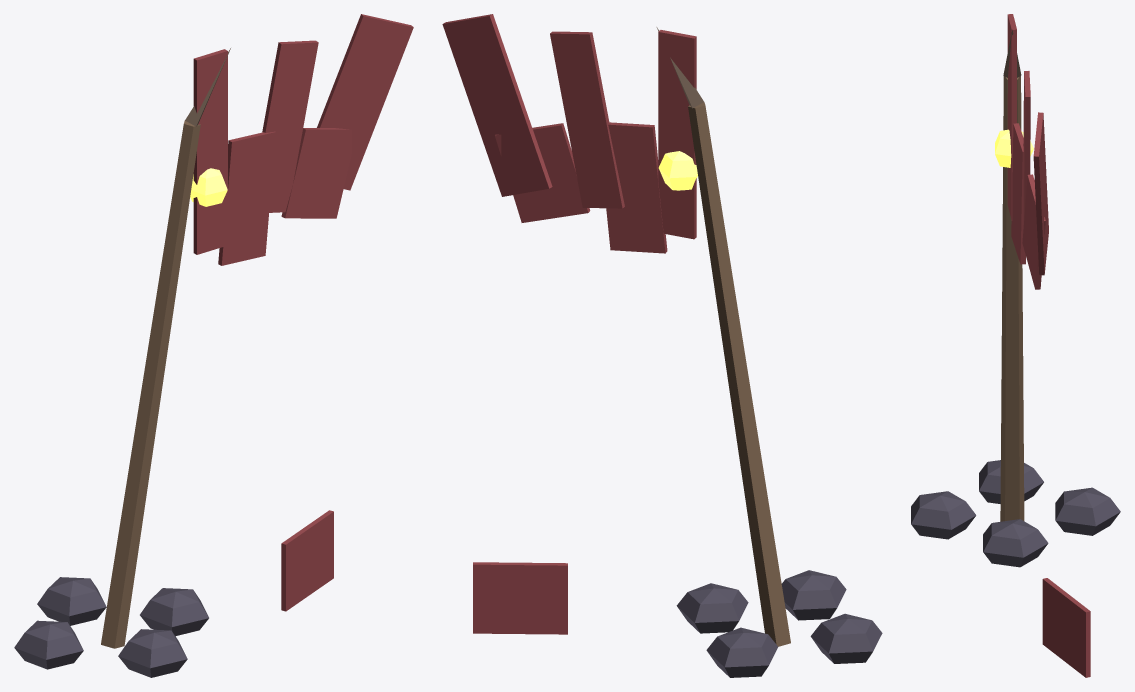
File: banner_torn.glb
3 renders of one model, left to right at view 1: azimuth 30°, elevation 25°; view 2: azimuth 150°, elevation 25°; view 3: azimuth 270°, elevation 25°, orthographic. The views are drawn at different scales.
Parts seen in each view (by area): view 1: banner_torn; view 2: banner_torn; view 3: banner_torn.
Boxes of the visible parts, x1,y1,x2,y2 form: banner_torn: (14,14,413,677); banner_torn: (442,14,882,677); banner_torn: (911,14,1120,677).
Bounding box in the file's own units: 2.55 × 3.55 × 1.16.
